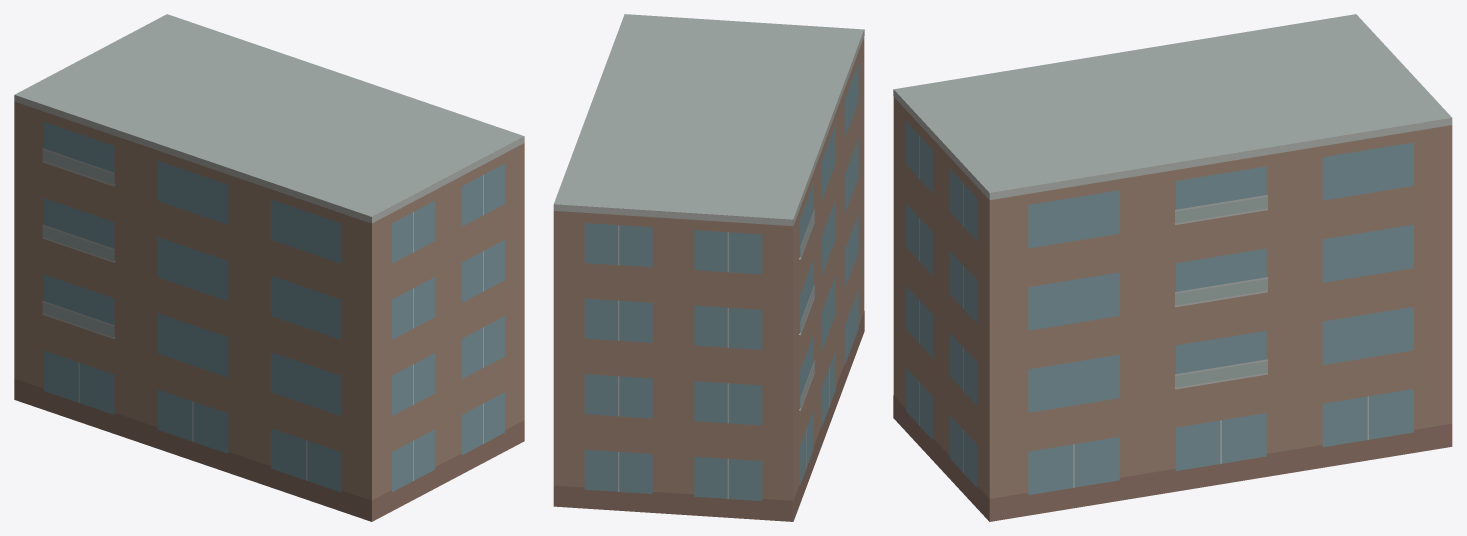
Rendered from survey-upis-32847450.glb.
The picture shows the model from 3 angles, left to right: view 1: azimuth 30°, elevation 25°; view 2: azimuth 150°, elevation 25°; view 3: azimuth 270°, elevation 25°; orthographic projection. The views are drawn at different scales.
Parts seen in each view (by area): view 1: survey-upis-32847450.tmp; view 2: survey-upis-32847450.tmp; view 3: survey-upis-32847450.tmp.
Boxes of the visible parts, <box> form: survey-upis-32847450.tmp: <box>14,14,524,521</box>; survey-upis-32847450.tmp: <box>553,14,864,521</box>; survey-upis-32847450.tmp: <box>893,14,1452,521</box>.
Size of the model in its own units: 13.09 by 11.2 by 17.26.
